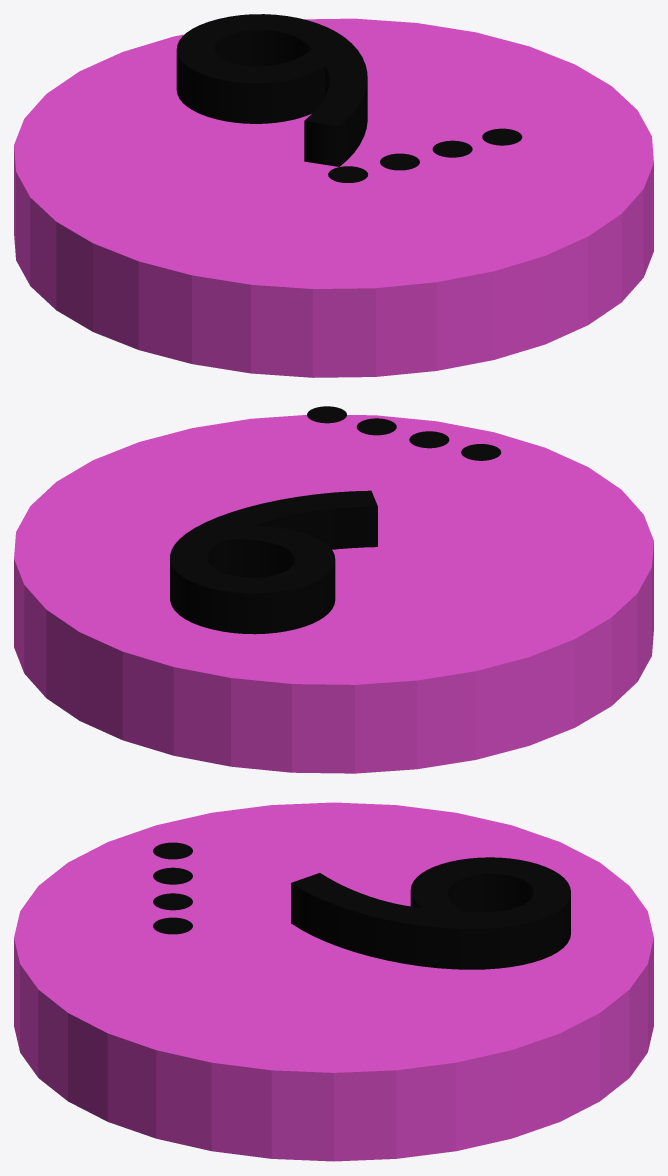
The model's file is nine.fbx.
3 renders of one model, top to bottom at view 1: azimuth 30°, elevation 25°; view 2: azimuth 150°, elevation 25°; view 3: azimuth 270°, elevation 25°, orthographic.
Visible parts, largest first — view 1: Circle, Text.001, Circle.001, Circle.002, Circle.007, Circle.008; view 2: Circle, Text.001, Circle.001, Circle.007, Circle.002, Circle.008; view 3: Circle, Text.001, Circle.008, Circle.002, Circle.007, Circle.001.
Part boxes in pixels (box(x1,y1,x2,y2)): Circle: box(14, 18, 653, 377); Text.001: box(176, 14, 367, 166); Circle.001: box(432, 140, 472, 157); Circle.002: box(482, 128, 522, 145); Circle.007: box(380, 153, 419, 170); Circle.008: box(328, 166, 368, 182); Circle: box(14, 415, 653, 773); Text.001: box(170, 490, 377, 634); Circle.001: box(356, 418, 396, 435); Circle.007: box(409, 431, 449, 448); Circle.002: box(307, 406, 346, 423); Circle.008: box(461, 444, 501, 460); Circle: box(14, 802, 653, 1161); Text.001: box(291, 857, 570, 969); Circle.008: box(153, 842, 192, 859); Circle.002: box(153, 917, 192, 934); Circle.007: box(153, 867, 192, 884); Circle.001: box(153, 893, 192, 910).
Size of the model in its own units: 200 by 49.27 by 200.
